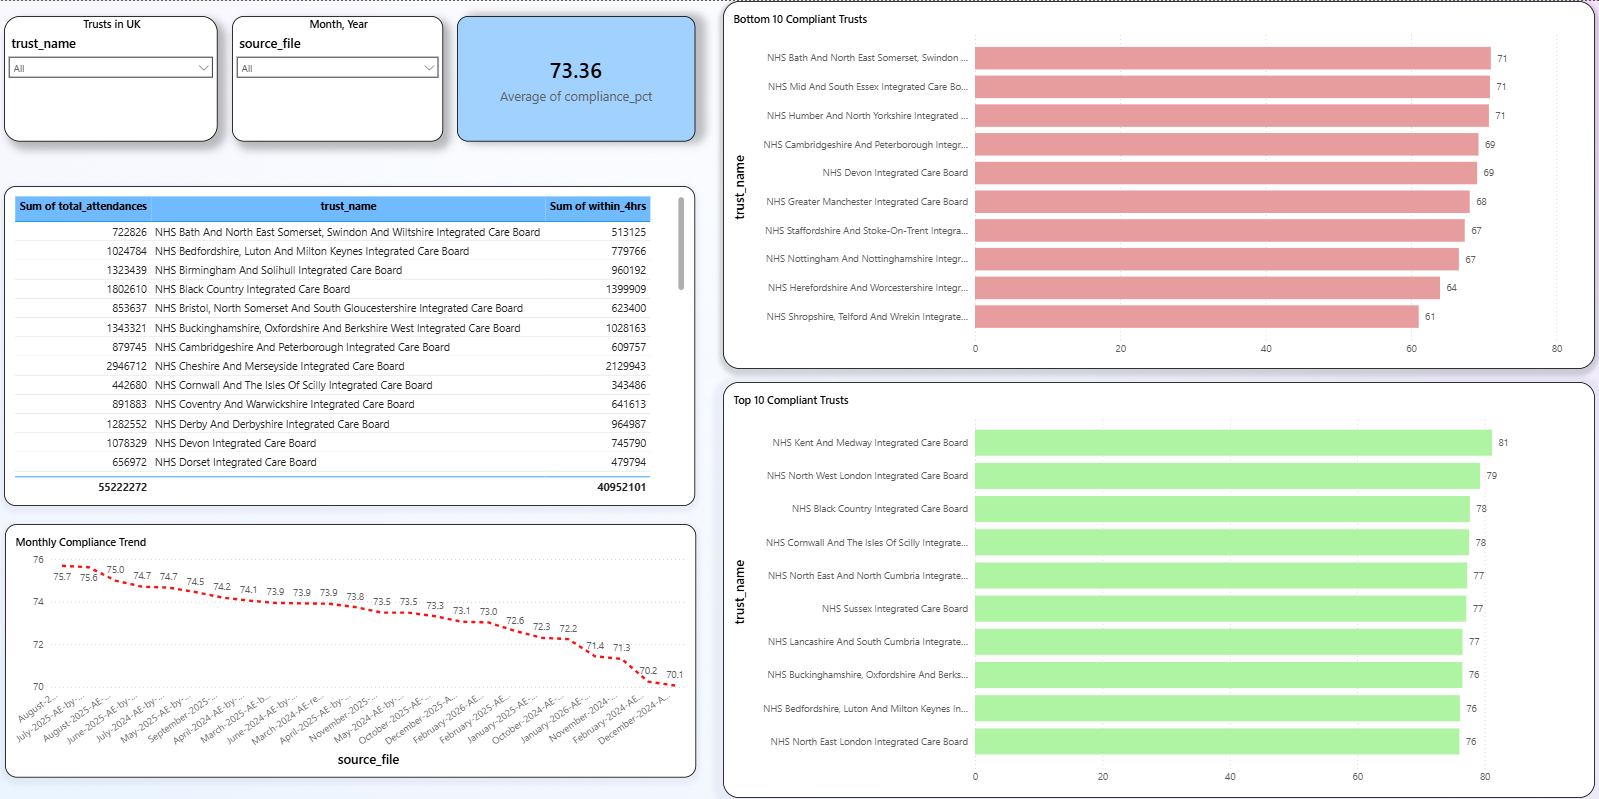

The dashboard page shown, as its layout file describes it:
{"tool":"powerbi","page":{"name":"Page 1","canvas":[2000,1000],"ordinal":0},"visuals":[{"type":"clusteredBarChart","title":"Bottom 10 Compliant Trusts","fields":{"Category":["nhs_ae_clean.trust_name"],"Y":["Avg(nhs_ae_clean.compliance_pct)"]},"box":[904.3,0,1089.7,460.5],"z":0},{"type":"tableEx","fields":{"Values":["Sum(nhs_ae_clean.total_attendances)","nhs_ae_clean.trust_name","Sum(nhs_ae_clean.within_4hrs)"]},"box":[4.9,230.7,863.8,400],"z":1000},{"type":"clusteredBarChart","title":"Top 10 Compliant Trusts","fields":{"Category":["nhs_ae_clean.trust_name"],"Y":["Avg(nhs_ae_clean.compliance_pct)"]},"box":[904.3,475.7,1089.7,519.8],"z":3000},{"type":"lineChart","title":"Monthly Compliance Trend","fields":{"Category":["nhs_ae_clean.source_file"],"Y":["Avg(nhs_ae_clean.compliance_pct)"]},"box":[6.1,654,863.8,316.6],"z":4000},{"type":"slicer","title":"Trusts in UK","fields":{"Values":["nhs_ae_clean.trust_name"]},"box":[4.6,18.2,267.5,156.5],"z":5000},{"type":"slicer","title":"Month, Year","fields":{"Values":["nhs_ae_clean.source_file"]},"box":[290.3,18.2,264.4,156.5],"z":6000},{"type":"card","fields":{"Values":["Avg(nhs_ae_clean.compliance_pct)"]},"box":[571.4,18.2,297.9,156.5],"z":8500}]}

Visuals, with their boxes in screenshot pixels (x1, y1, x2, y2), scaled from the page's 2000x1000 canvas onto the 1599x799 screenshot:
"Bottom 10 Compliant Trusts" clusteredBarChart: <bbox>723, 0, 1594, 368</bbox>
tableEx - Sum(nhs_ae_clean.total_attendances) x nhs_ae_clean.trust_name: <bbox>4, 184, 695, 504</bbox>
"Top 10 Compliant Trusts" clusteredBarChart: <bbox>723, 380, 1594, 795</bbox>
"Monthly Compliance Trend" lineChart: <bbox>5, 523, 695, 776</bbox>
"Trusts in UK" slicer: <bbox>4, 15, 218, 140</bbox>
"Month, Year" slicer: <bbox>232, 15, 443, 140</bbox>
card - Avg(nhs_ae_clean.compliance_pct): <bbox>457, 15, 695, 140</bbox>
